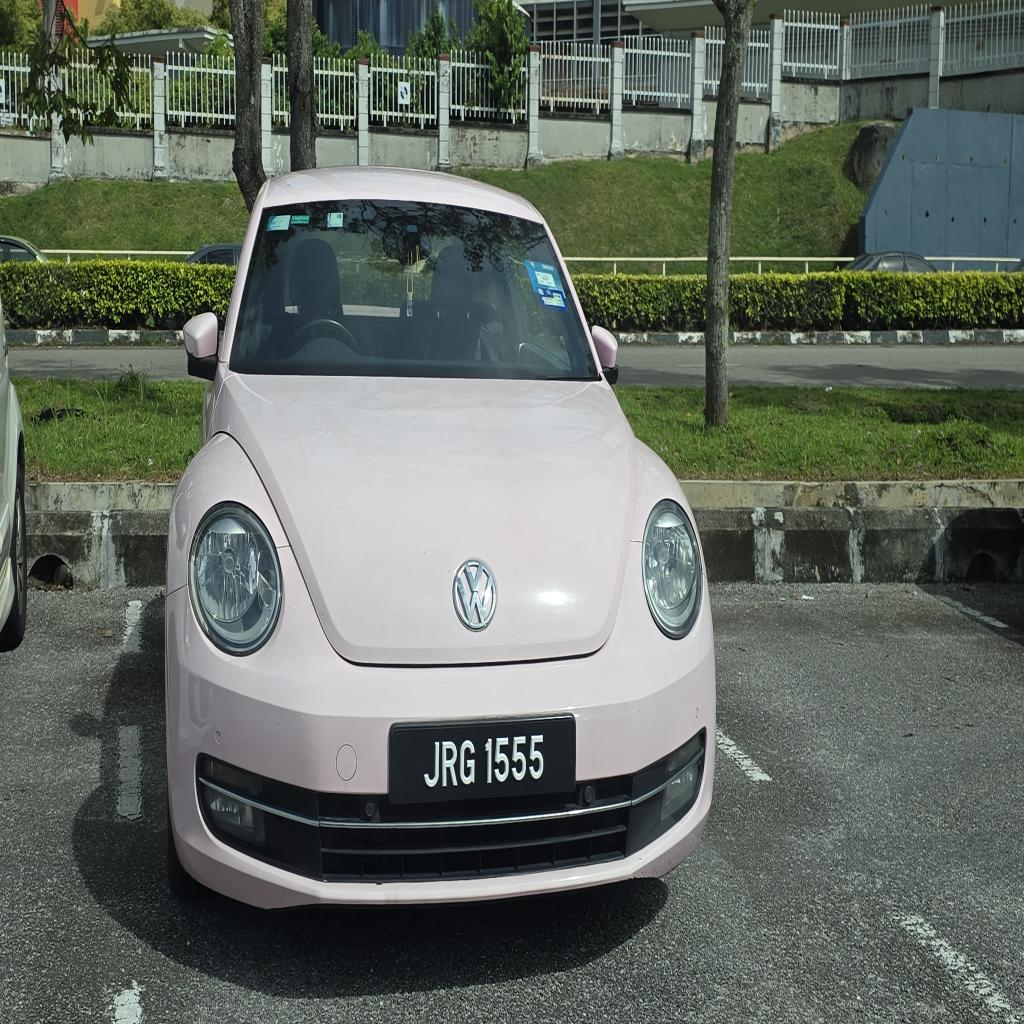car: (166, 169, 715, 907)
car plate: (389, 716, 575, 803)
